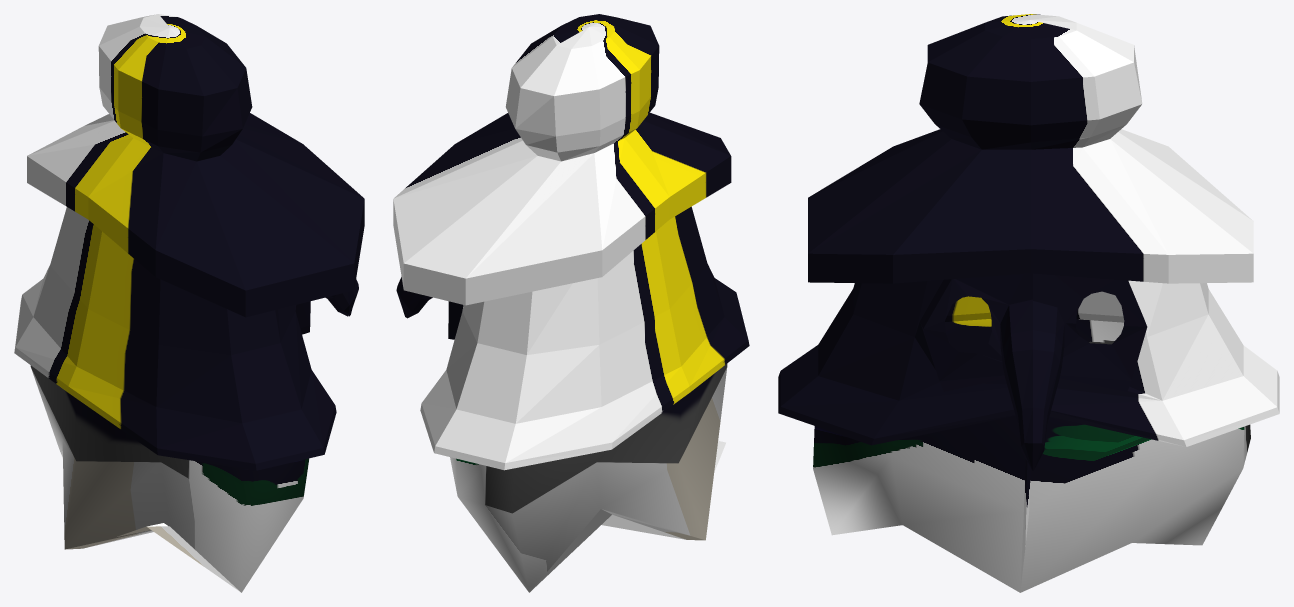
Rendered from newkeeper2.FBX.
3 renders of one model, left to right at view 1: azimuth 30°, elevation 25°; view 2: azimuth 150°, elevation 25°; view 3: azimuth 270°, elevation 25°, orthographic. The views are drawn at different scales.
Visible parts, largest first — view 1: Cylinder001; view 2: Cylinder001; view 3: Cylinder001.
Part boxes in pixels (left/top/right/bottom): Cylinder001: left=14, top=14, right=364, bottom=592; Cylinder001: left=393, top=14, right=749, bottom=592; Cylinder001: left=778, top=14, right=1279, bottom=592.
Size of the model in its own units: 69.4 by 111 by 93.65.
Materials: 1 (1 with a texture image).
